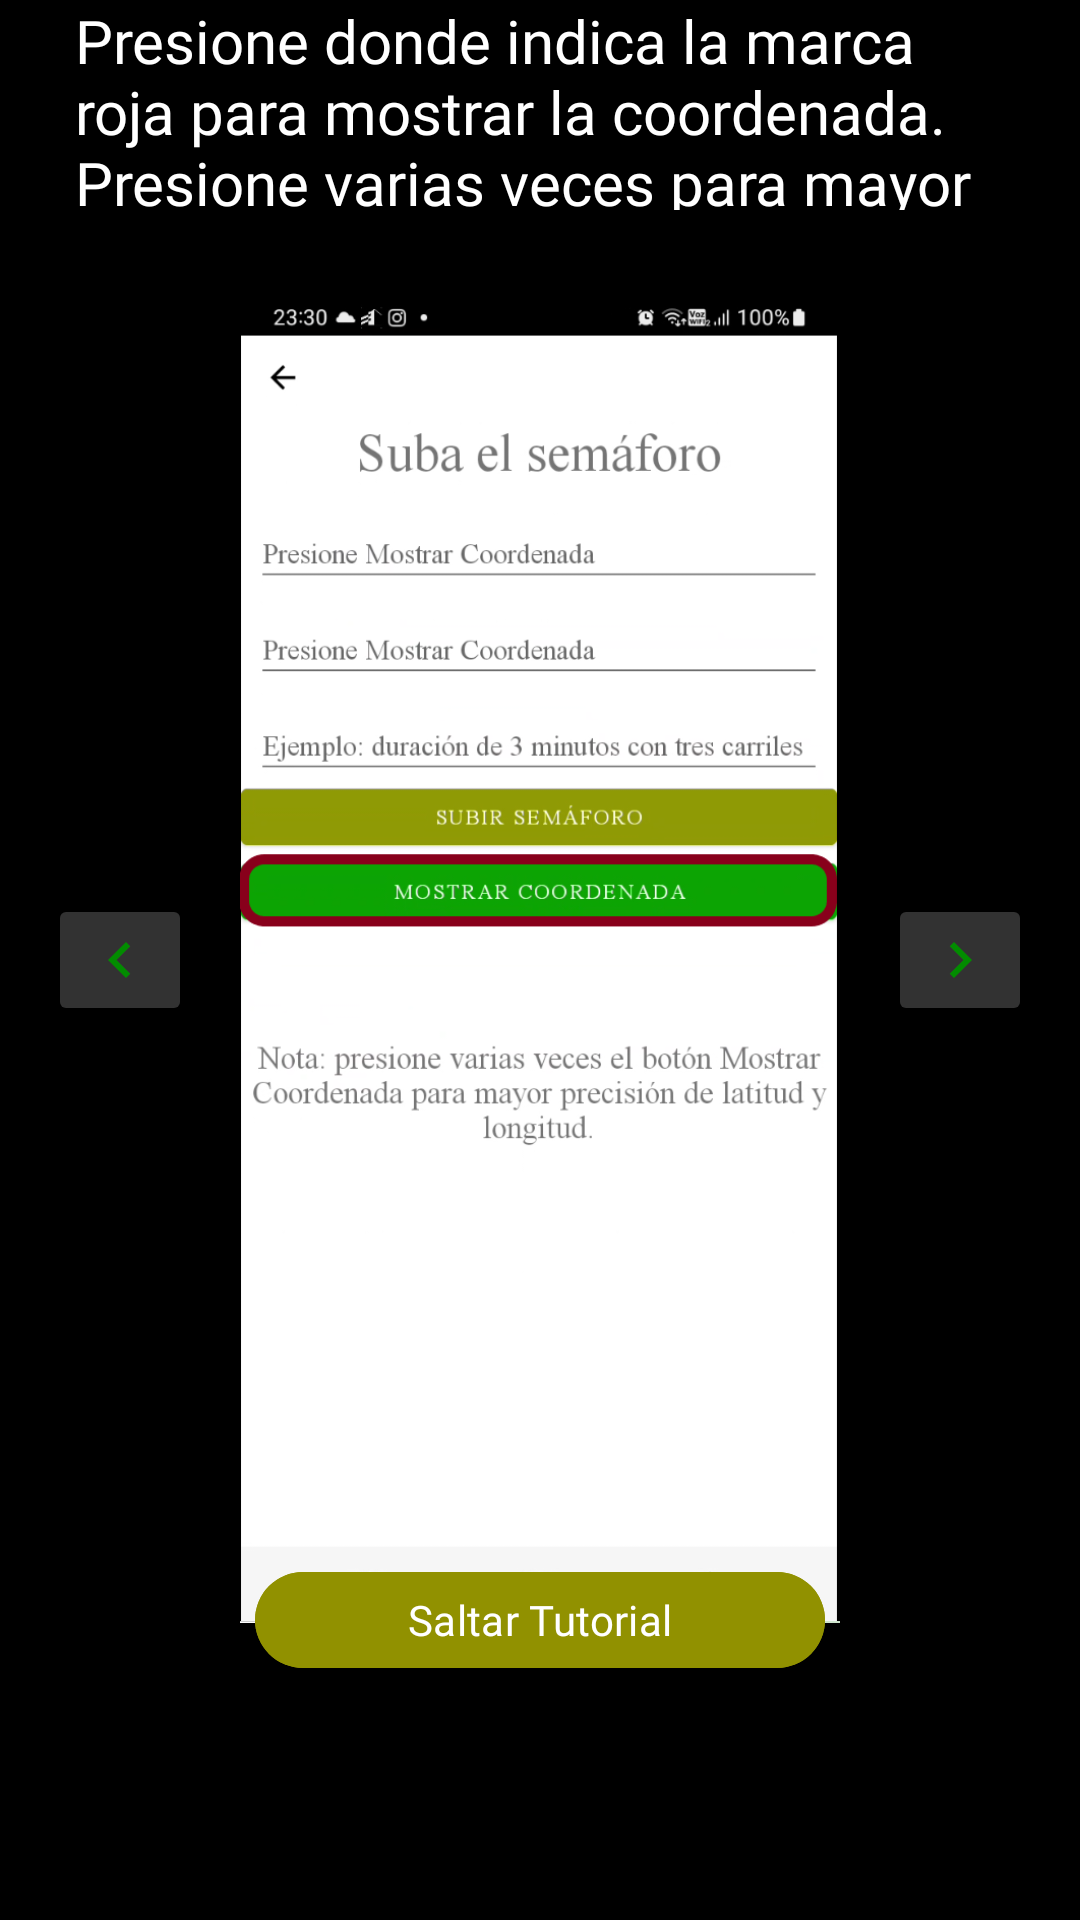

Named icons in this screenshot (1080x1920) and their bounding boxes, (x1=x1, y1=y1, x2=x2, y2=y2):
Anterior: (x1=60, y1=912, x2=180, y2=1008)
Siguiente: (x1=900, y1=912, x2=1020, y2=1008)
